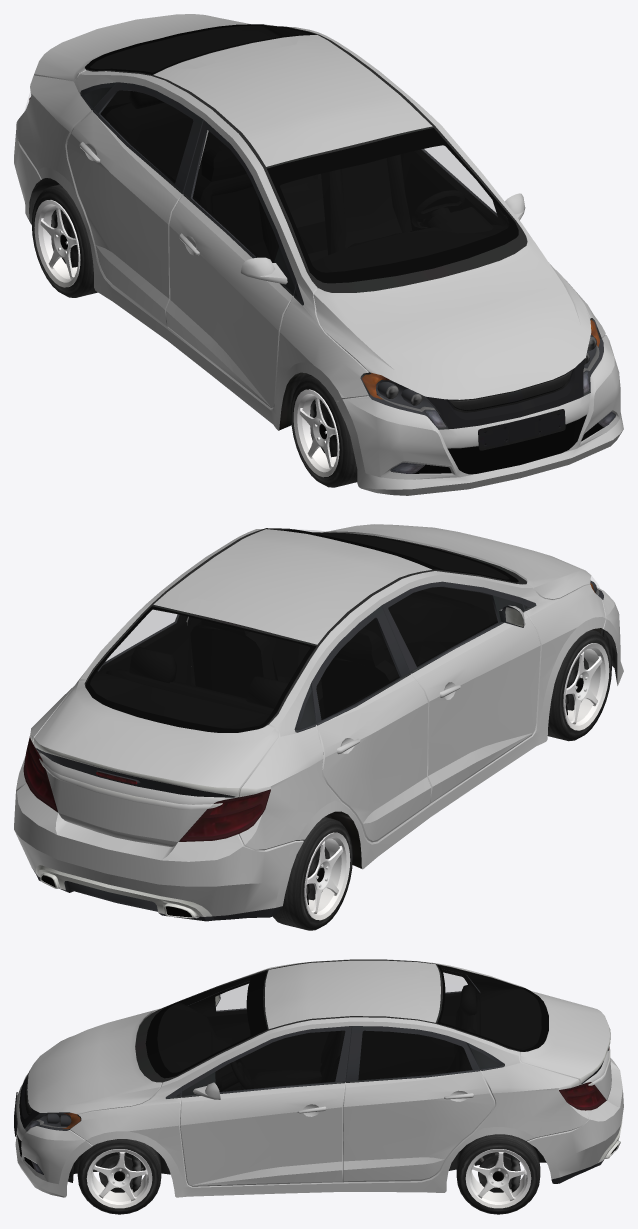
File: traffic_sedan_compact.glb
3 views of the same model, one above another, from view 1: azimuth 30°, elevation 25°; view 2: azimuth 150°, elevation 25°; view 3: azimuth 270°, elevation 25° (orthographic). The views are drawn at different scales.
Parts seen in each view (by area): view 1: body, wheel_rr_mesh, wheel_fr_mesh; view 2: body, wheel_rr_mesh, wheel_fr_mesh; view 3: body, wheel_rl_mesh, wheel_fl_mesh.
Part boxes in pixels (x1,y1,x2,y2): body: [14, 14, 623, 495]; wheel_rr_mesh: [31, 184, 97, 297]; wheel_fr_mesh: [290, 375, 357, 487]; body: [14, 524, 623, 921]; wheel_rr_mesh: [273, 817, 352, 930]; wheel_fr_mesh: [547, 629, 611, 741]; body: [14, 959, 623, 1197]; wheel_rl_mesh: [456, 1134, 540, 1214]; wheel_fl_mesh: [77, 1139, 161, 1214].
Size of the model in its own units: 1.76 by 1.49 by 4.5.
10 materials, 4 textured.
